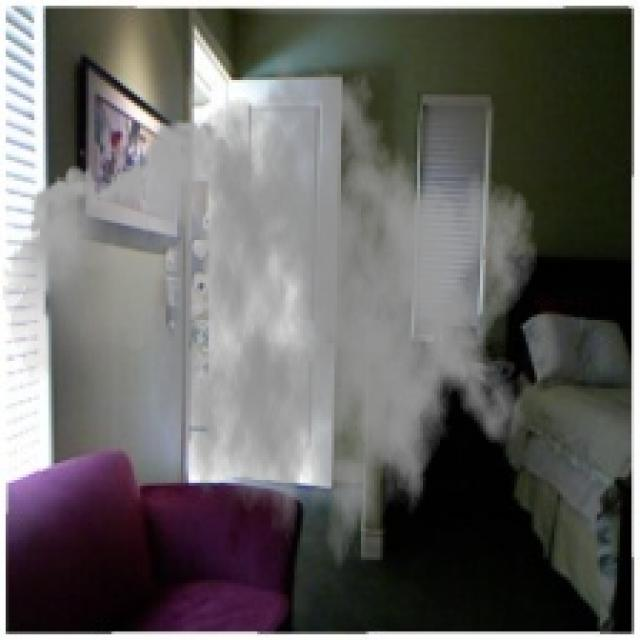smoke: (3, 51, 540, 594)
